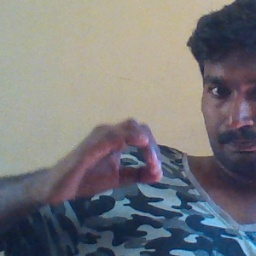O: (48, 116, 168, 206)
